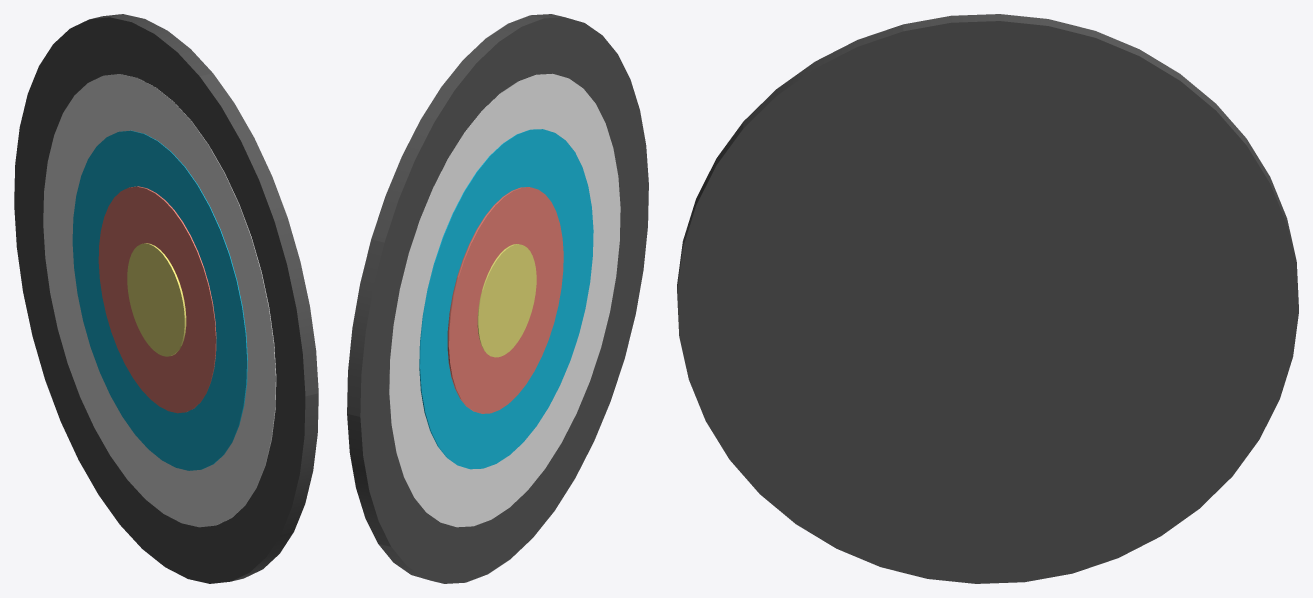
Rendered from target.fbx.
3 views of the same model, side by side, from view 1: azimuth 30°, elevation 25°; view 2: azimuth 150°, elevation 25°; view 3: azimuth 270°, elevation 25° (orthographic). The views are drawn at different scales.
Parts seen in each view (by area): view 1: model; view 2: model; view 3: model.
Boxes of the visible parts, x1,y1,x2,y2 form: model: [14, 14, 318, 583]; model: [347, 14, 648, 583]; model: [677, 14, 1298, 583].
Bounding box in the file's own units: 9.86 × 278 × 279.
